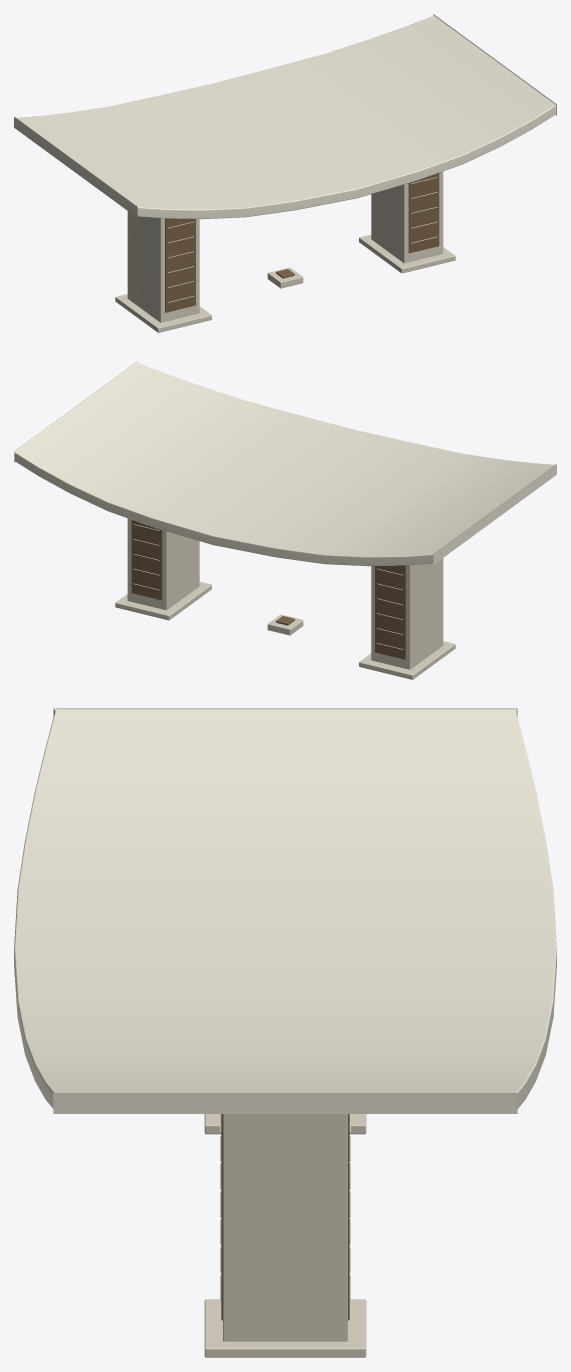
File: world-peace-gate.glb
3 renders of one model, top to bottom at view 1: azimuth 30°, elevation 25°; view 2: azimuth 150°, elevation 25°; view 3: azimuth 270°, elevation 25°, orthographic. The views are drawn at different scales.
Visible parts, largest first — view 1: Peace gate wing roof, Monument pier, Monument pier.001, Recessed pier panel, Recessed pier panel.002, Foundation, Foundation.001, Eternal flame plinth; view 2: Peace gate wing roof, Monument pier, Monument pier.001, Recessed pier panel.001, Recessed pier panel.003, Foundation, Foundation.001, Eternal flame plinth; view 3: Peace gate wing roof, Monument pier.001, Foundation.001.
Part boxes in pixels (x1,y1,x2,y2): Peace gate wing roof: (14,14,556,219); Monument pier: (127,211,199,322); Monument pier.001: (371,171,443,263); Recessed pier panel: (165,218,195,312); Recessed pier panel.002: (408,173,439,253); Foundation: (115,294,211,332); Foundation.001: (359,234,455,273); Eternal flame plinth: (267,267,303,288); Peace gate wing roof: (14,361,556,566); Monument pier: (371,558,443,669); Monument pier.001: (127,518,199,610); Recessed pier panel.001: (375,565,405,659); Recessed pier panel.003: (131,520,162,600); Foundation: (359,641,455,679); Foundation.001: (115,581,211,620); Eternal flame plinth: (267,614,303,635); Peace gate wing roof: (14,708,556,1113); Monument pier.001: (223,1114,347,1341); Foundation.001: (204,1299,366,1357).
Bounding box in the file's own units: 62 × 24.12 × 37.
